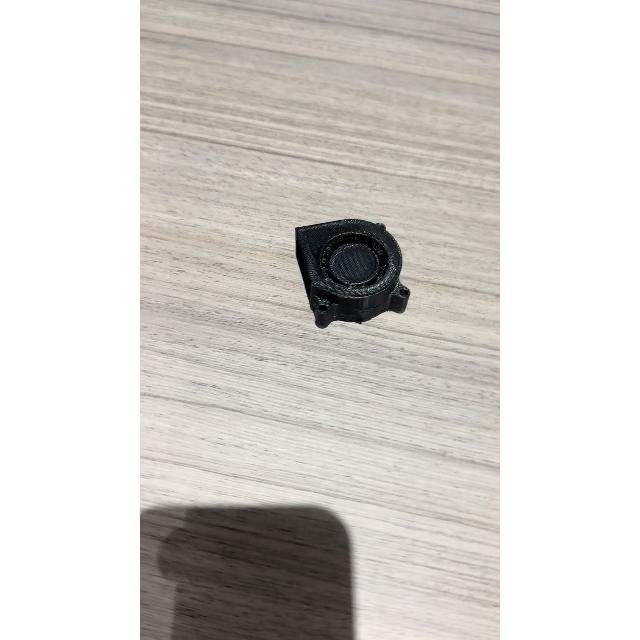Pieza_3: (286, 205, 418, 337)
